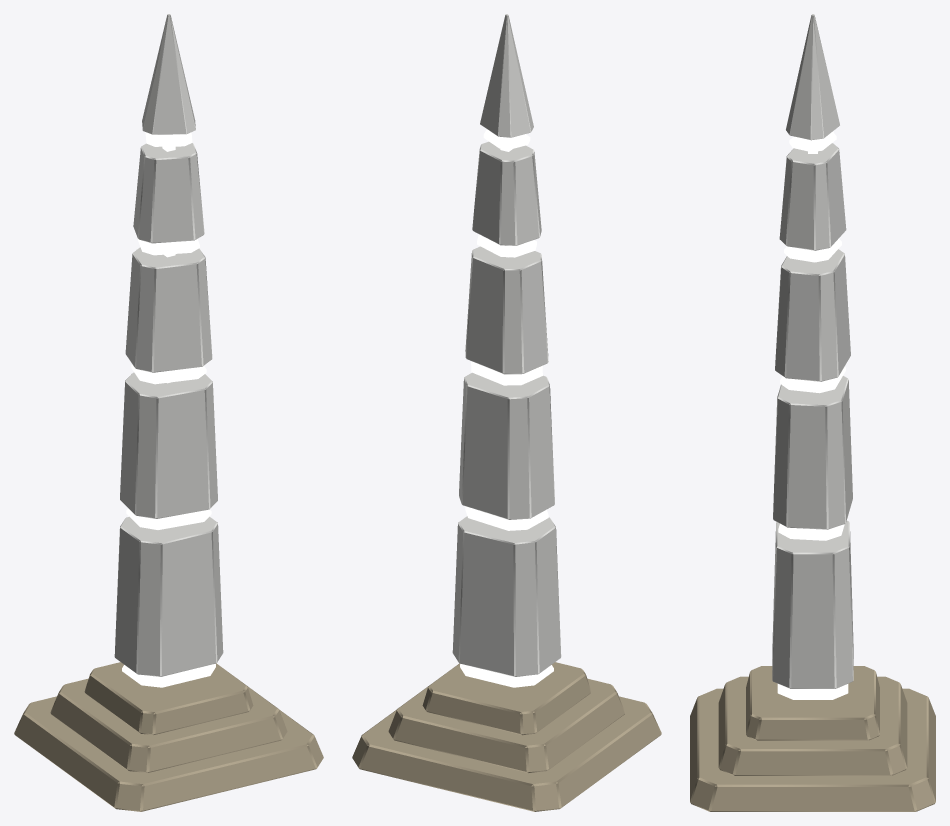
File: SM_SB_Kit_Shard.fbx
The picture shows the model from 3 angles, left to right: view 1: azimuth 30°, elevation 25°; view 2: azimuth 150°, elevation 25°; view 3: azimuth 270°, elevation 25°; orthographic projection.
Parts seen in each view (by area): view 1: SM_SB_Kit_Shard; view 2: SM_SB_Kit_Shard; view 3: SM_SB_Kit_Shard.
Part boxes in pixels (x1,y1,x2,y2): SM_SB_Kit_Shard: (14,14,323,811); SM_SB_Kit_Shard: (352,14,661,811); SM_SB_Kit_Shard: (690,14,935,811).
Size of the model in its own units: 1494 by 1494 by 5000.
